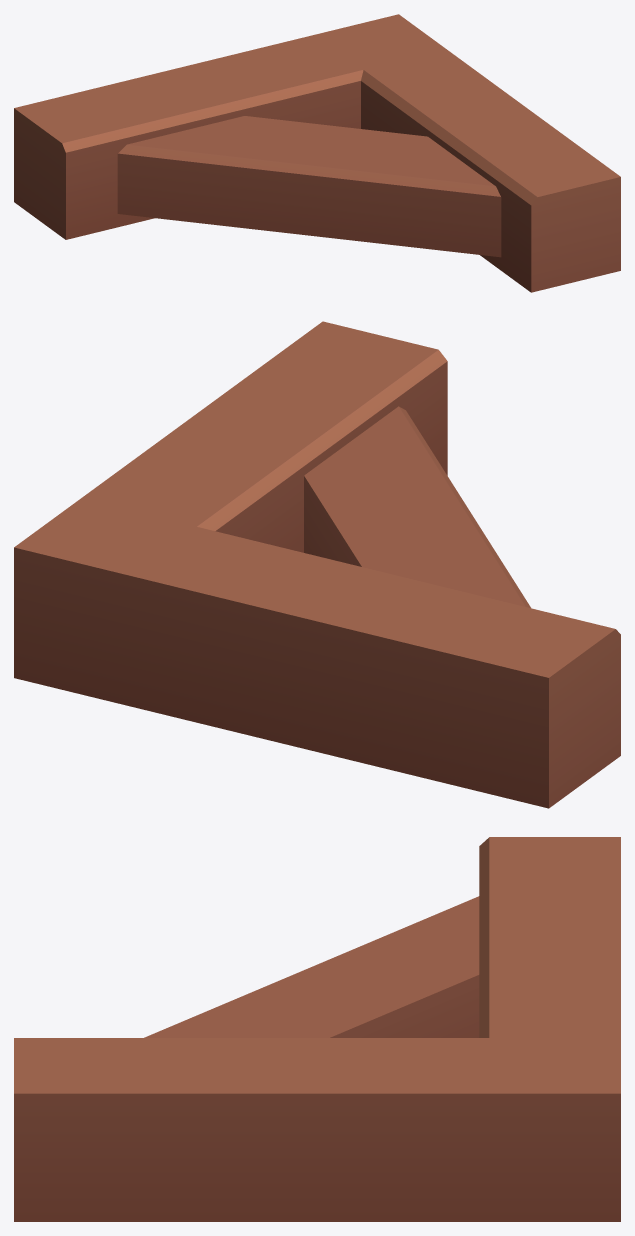
The model's file is scaffold_beam_corner.glb.
The picture shows the model from 3 angles, top to bottom: view 1: azimuth 30°, elevation 25°; view 2: azimuth 150°, elevation 25°; view 3: azimuth 270°, elevation 25°; orthographic projection. The views are drawn at different scales.
Parts seen in each view (by area): view 1: scaffold_beam_corner; view 2: scaffold_beam_corner; view 3: scaffold_beam_corner.
Boxes of the visible parts, x1,y1,x2,y2 form: scaffold_beam_corner: (14,14,620,292); scaffold_beam_corner: (14,321,620,808); scaffold_beam_corner: (14,837,620,1221).
Bounding box in the file's own units: 1.5 × 0.35 × 1.5.
Materials: 1 (1 with a texture image).
